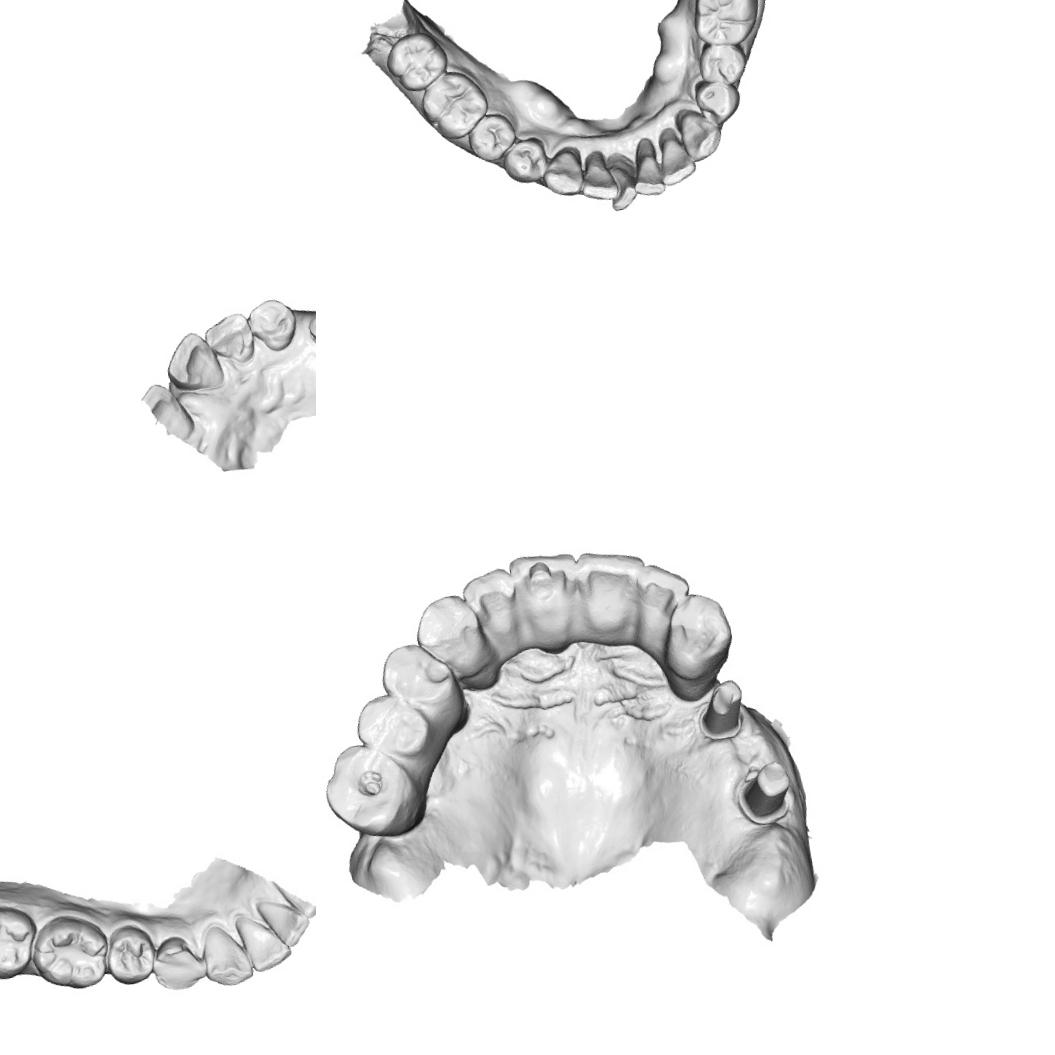abutment: (730, 756, 800, 832), (694, 678, 748, 741)
canine: (657, 584, 738, 684), (408, 588, 494, 682), (196, 920, 256, 990), (243, 294, 301, 355), (676, 109, 725, 164), (539, 147, 586, 199)
implant: (305, 310, 316, 347)
incisor: (571, 543, 656, 638), (505, 544, 586, 636), (626, 557, 702, 650), (457, 564, 526, 652), (161, 327, 228, 396), (233, 907, 294, 974), (201, 310, 259, 369), (653, 134, 698, 188), (578, 158, 620, 204), (270, 906, 313, 950), (629, 152, 667, 199), (605, 162, 639, 212)
molar: (316, 734, 424, 845), (26, 909, 115, 997), (350, 686, 438, 774), (416, 66, 492, 144), (382, 28, 452, 96), (0, 898, 44, 988), (688, 0, 764, 52)
premolar: (374, 636, 460, 720), (101, 920, 160, 988), (147, 932, 207, 994), (465, 110, 520, 164), (695, 40, 751, 90), (499, 136, 551, 186), (693, 78, 744, 126)
